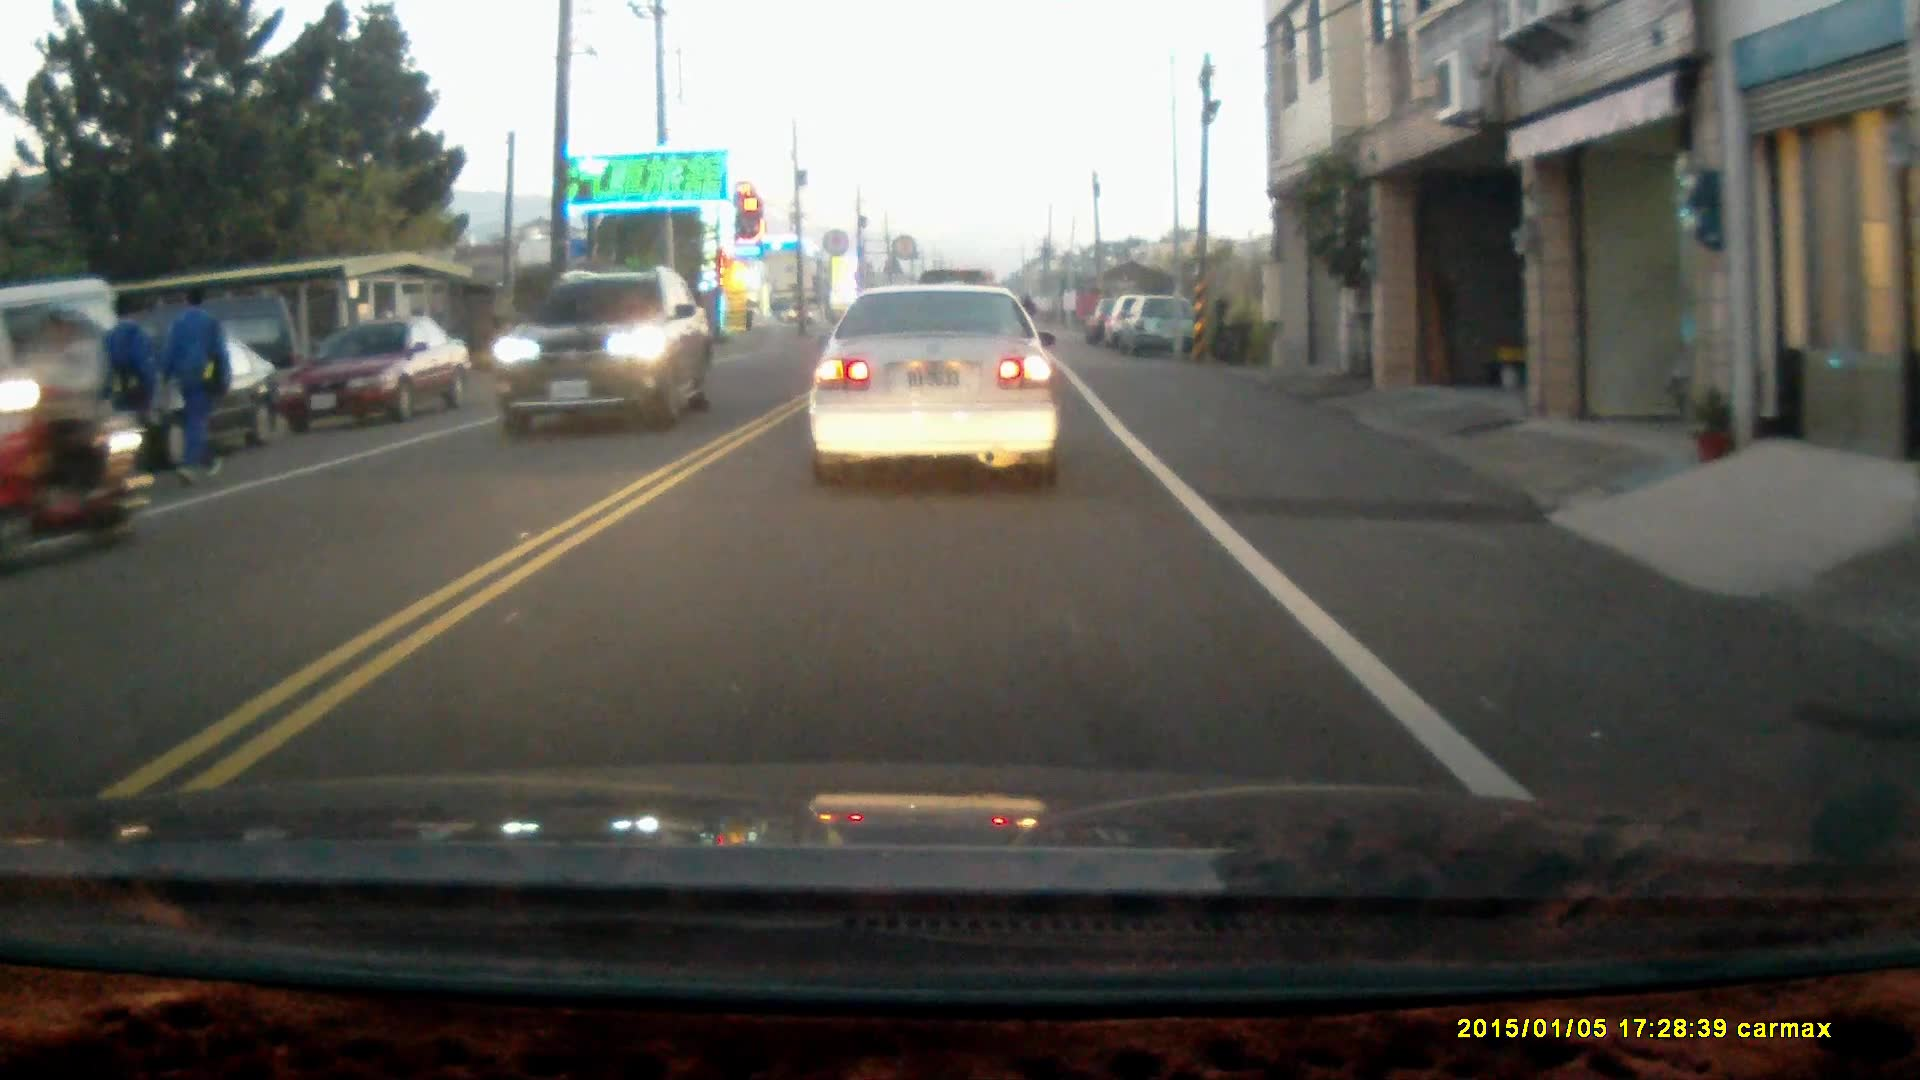pedestrian: (86, 288, 160, 496), (160, 283, 231, 487)
rider: (0, 299, 143, 571)
vehicle: (804, 283, 1064, 493), (46, 317, 293, 476), (1, 272, 158, 519), (494, 266, 713, 440), (292, 314, 474, 435), (1117, 294, 1202, 360)
